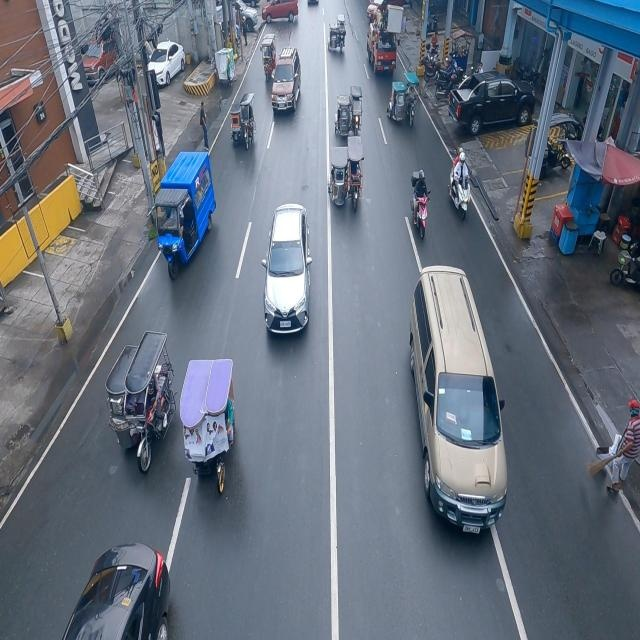Van: (408, 265, 509, 538)
